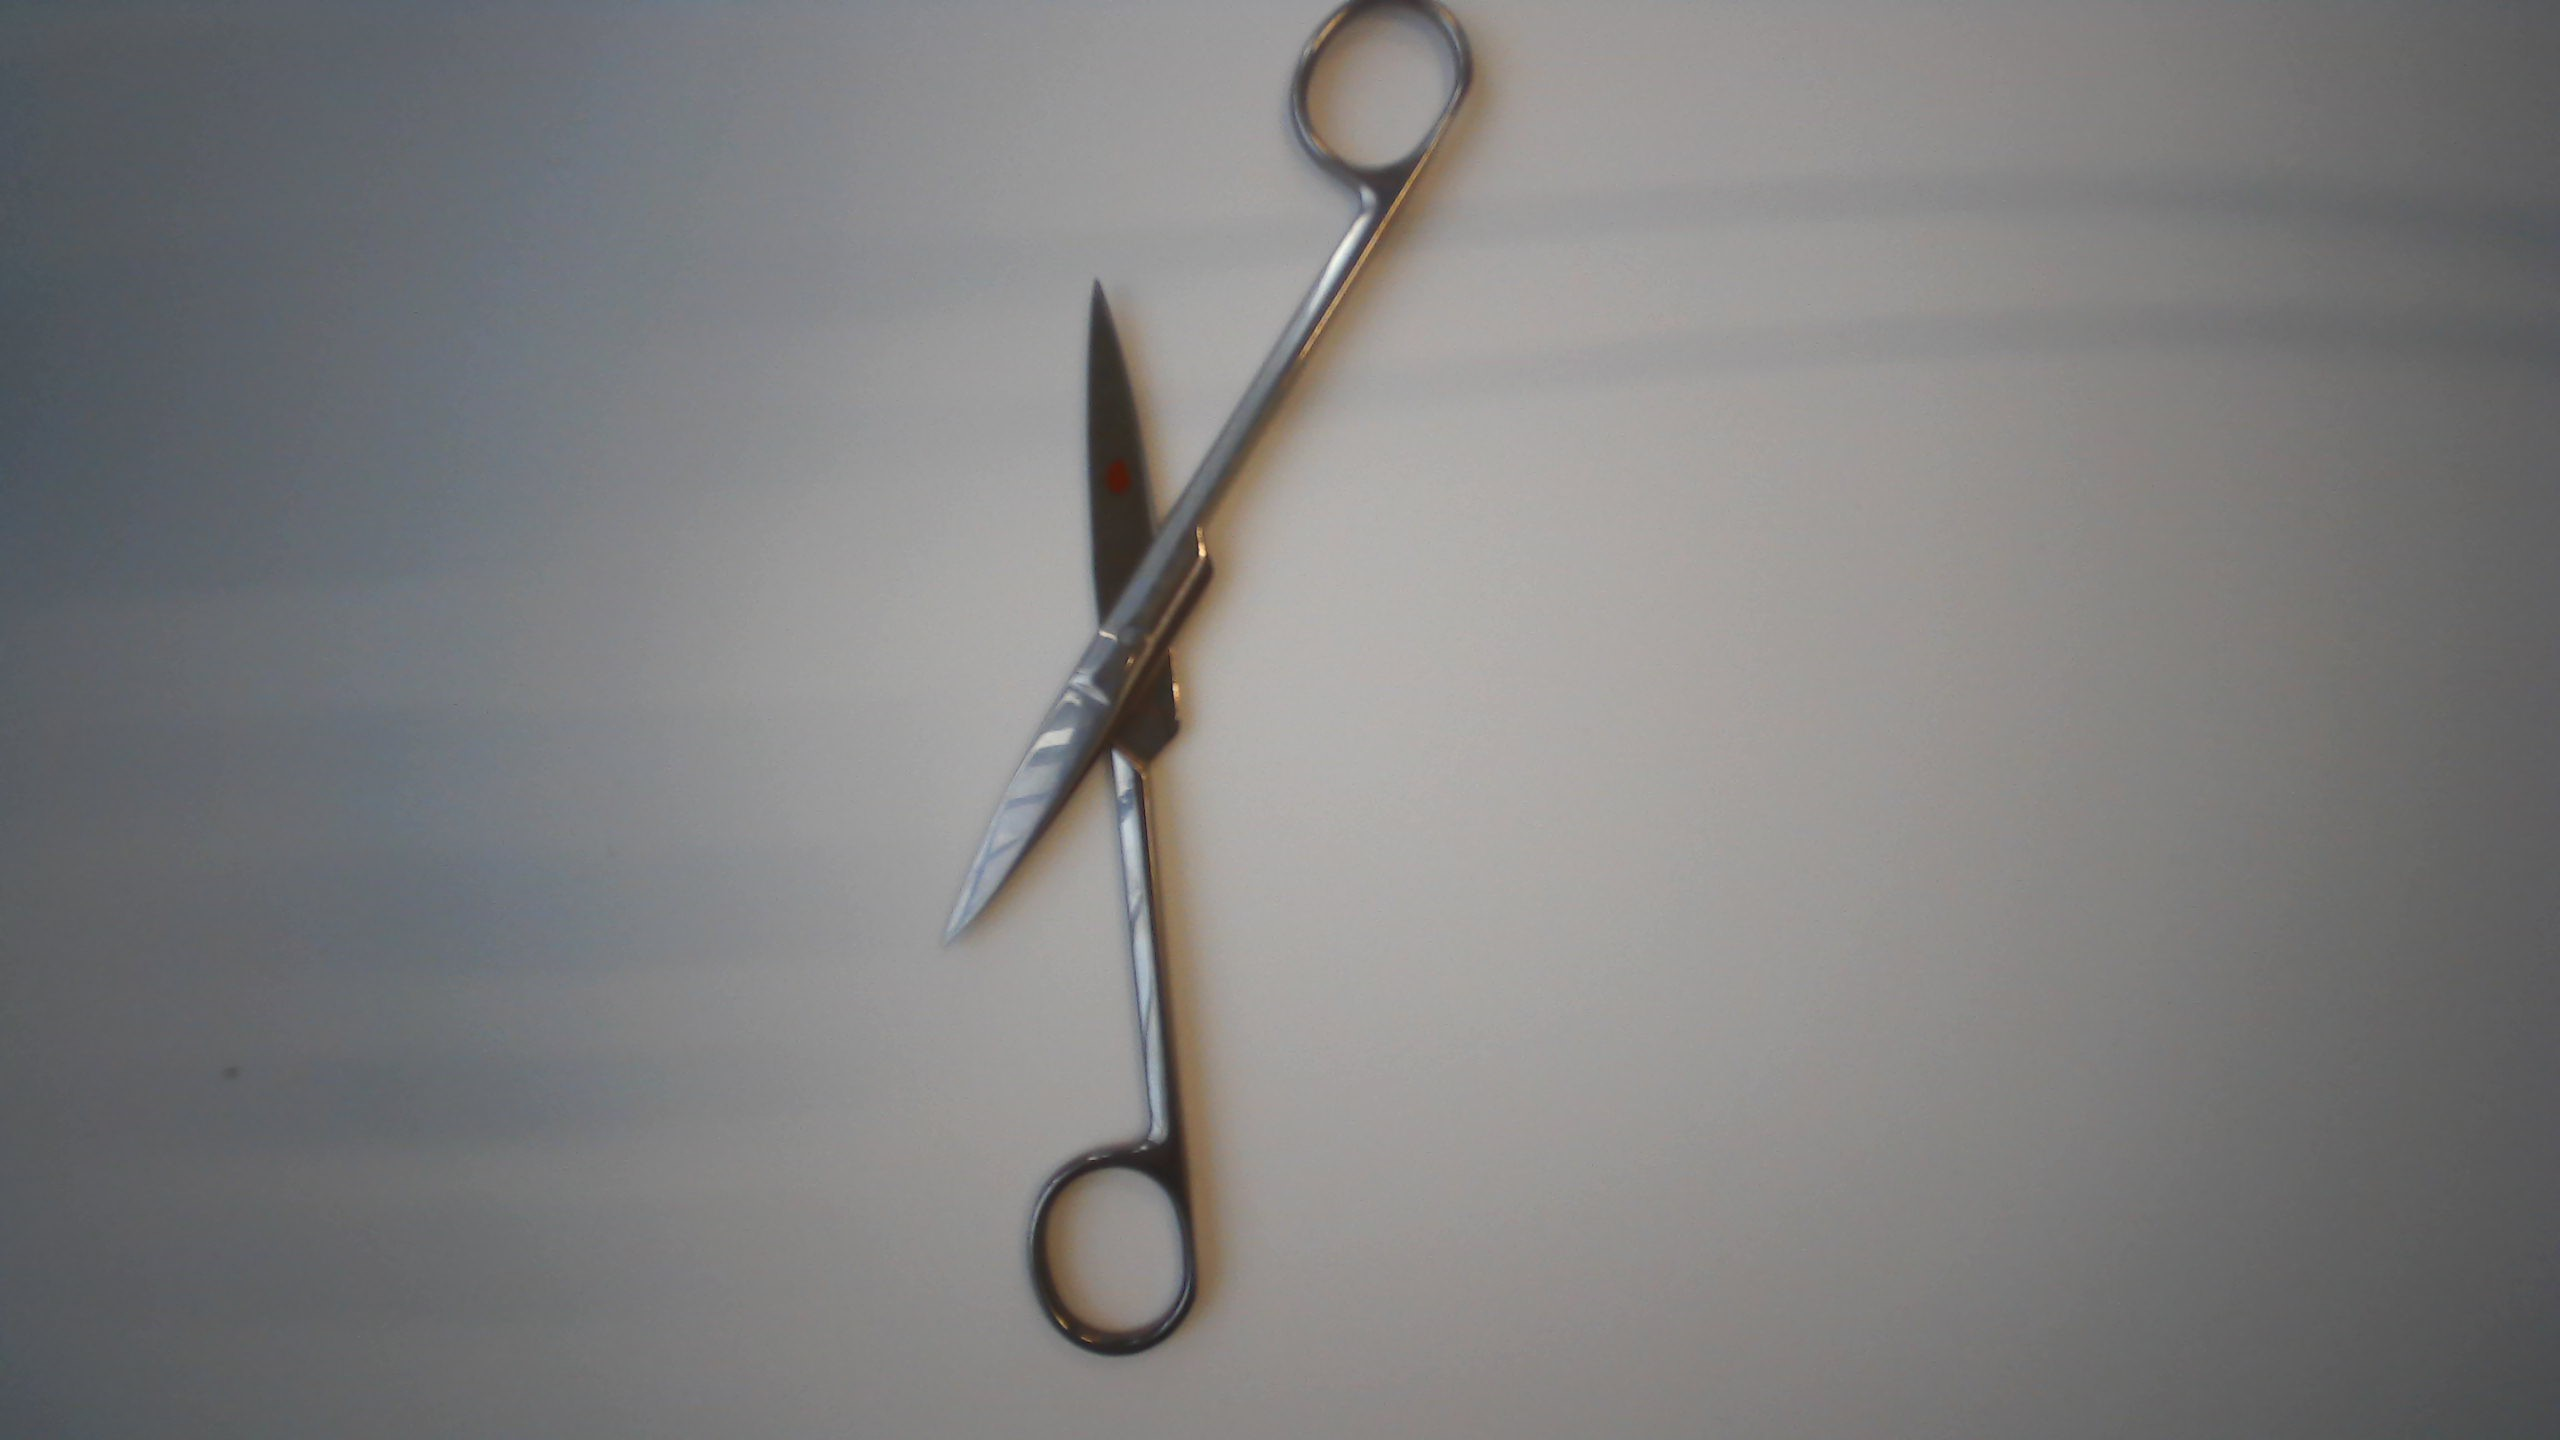Stain: (1101, 445, 1141, 501)
